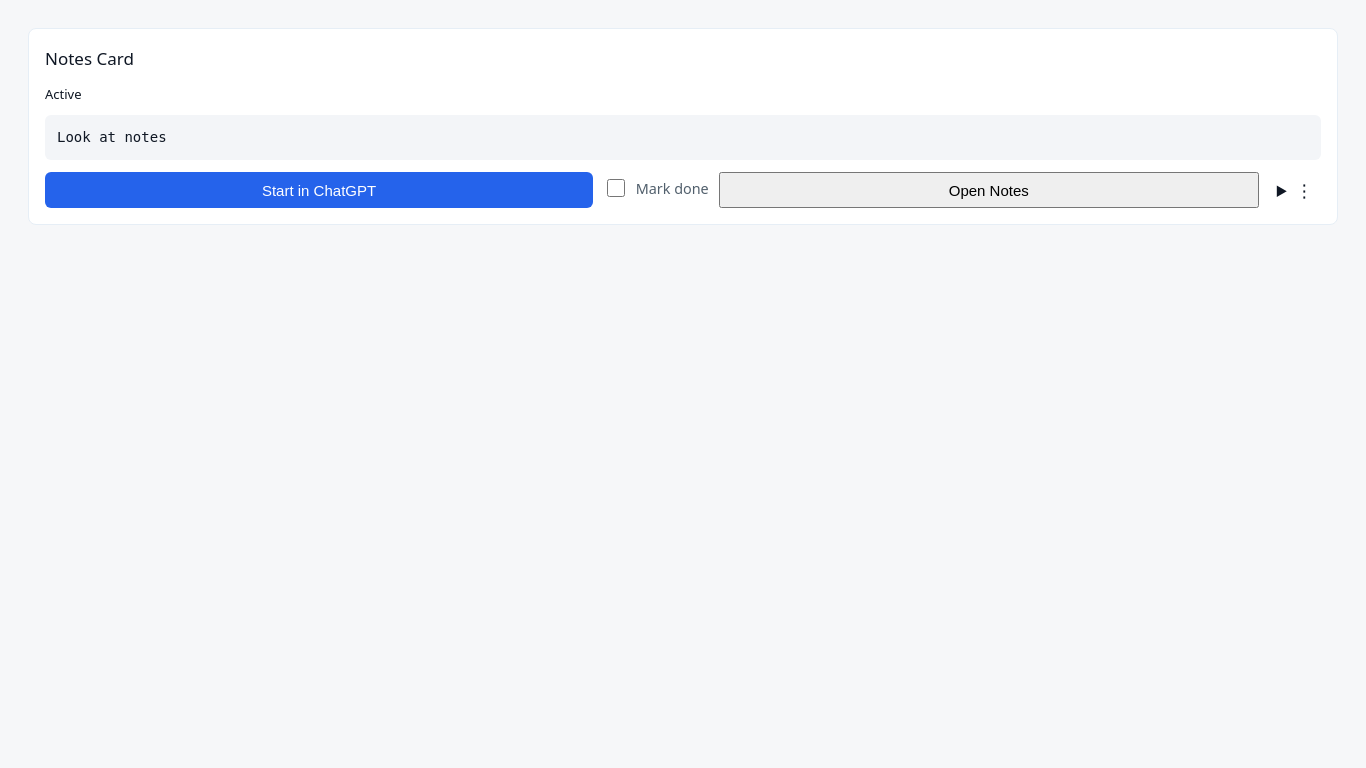
Scenario: Open Notes button shows the notes modal
The image size is (1366, 768).
Click the button with aria-label "Open notes for Notes Card" at [989, 190], box 719,172 -> 1259,208
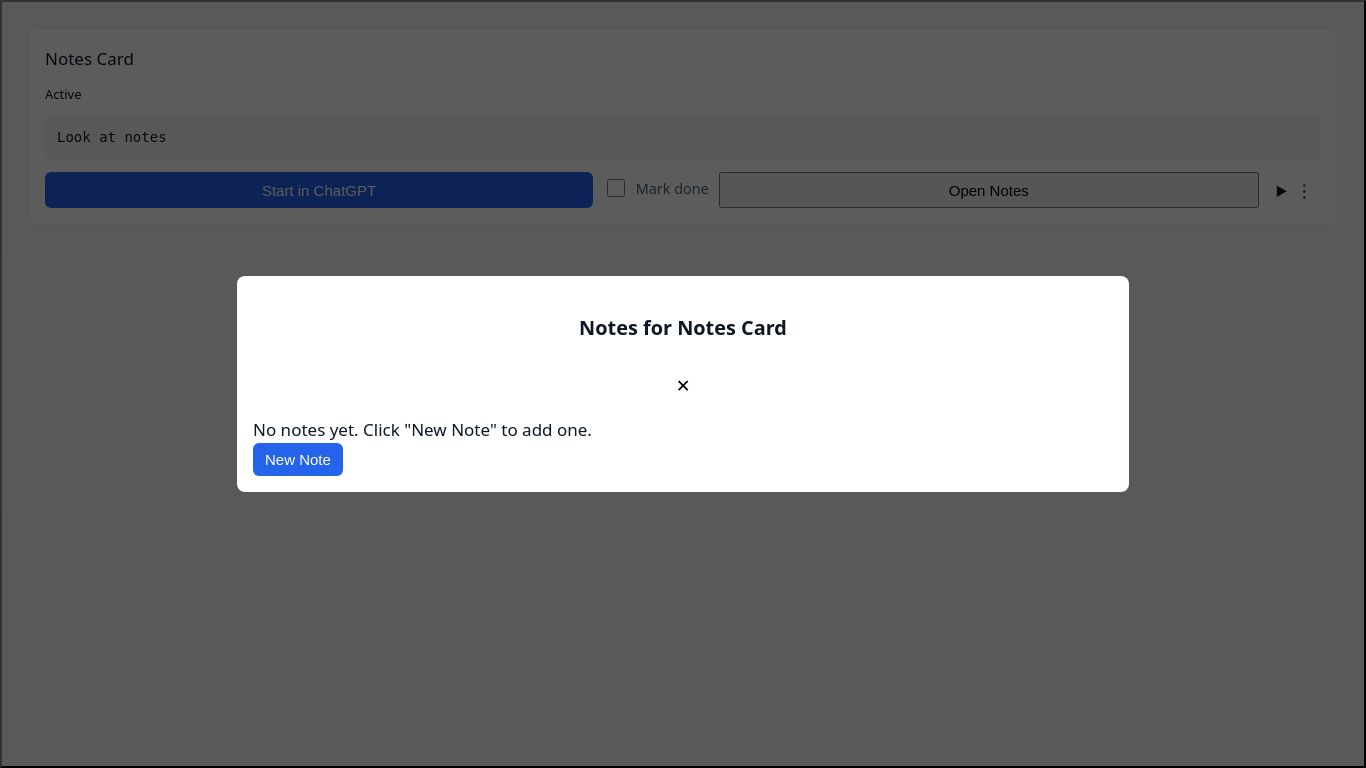
Now the heading "Notes for Notes Card" is shown, box 579,312 -> 787,343
